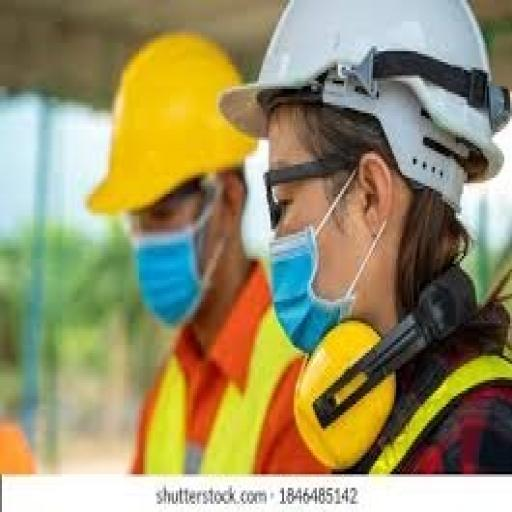mask: (264, 228, 354, 338), (124, 235, 208, 328)
